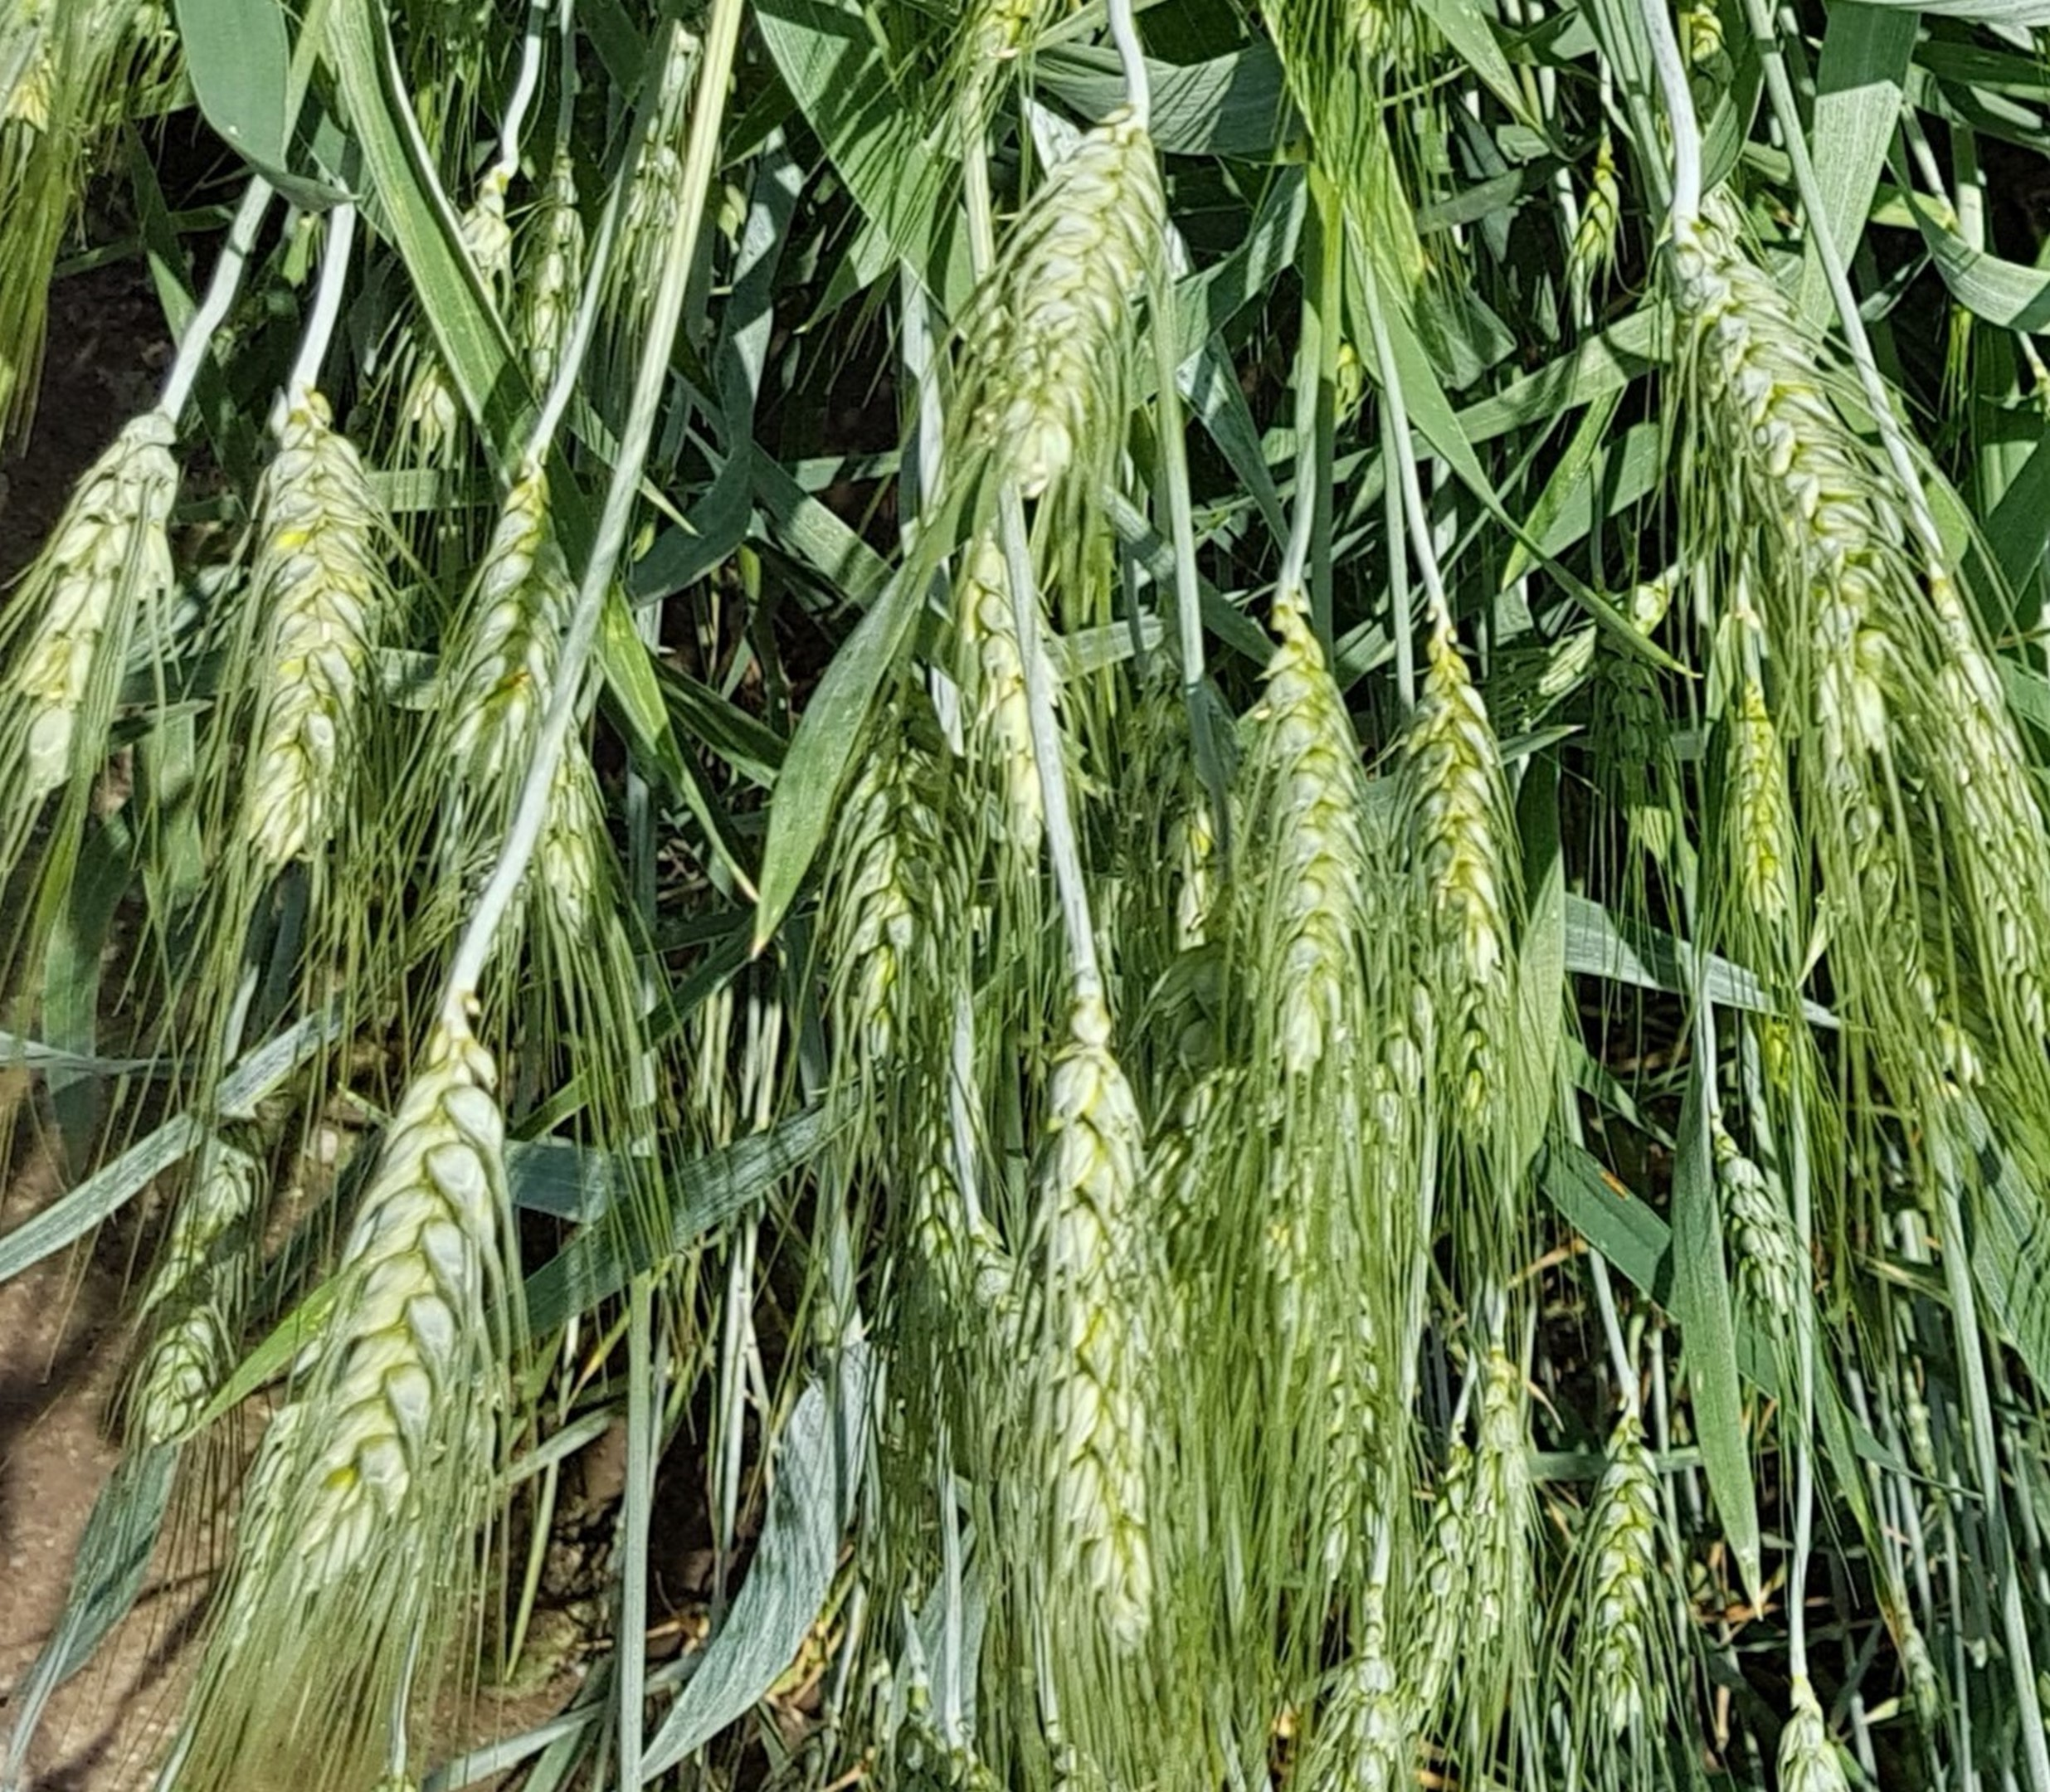Healthy Wheat: (35, 335, 390, 884), (1252, 584, 1558, 1065), (284, 1011, 519, 1595)
